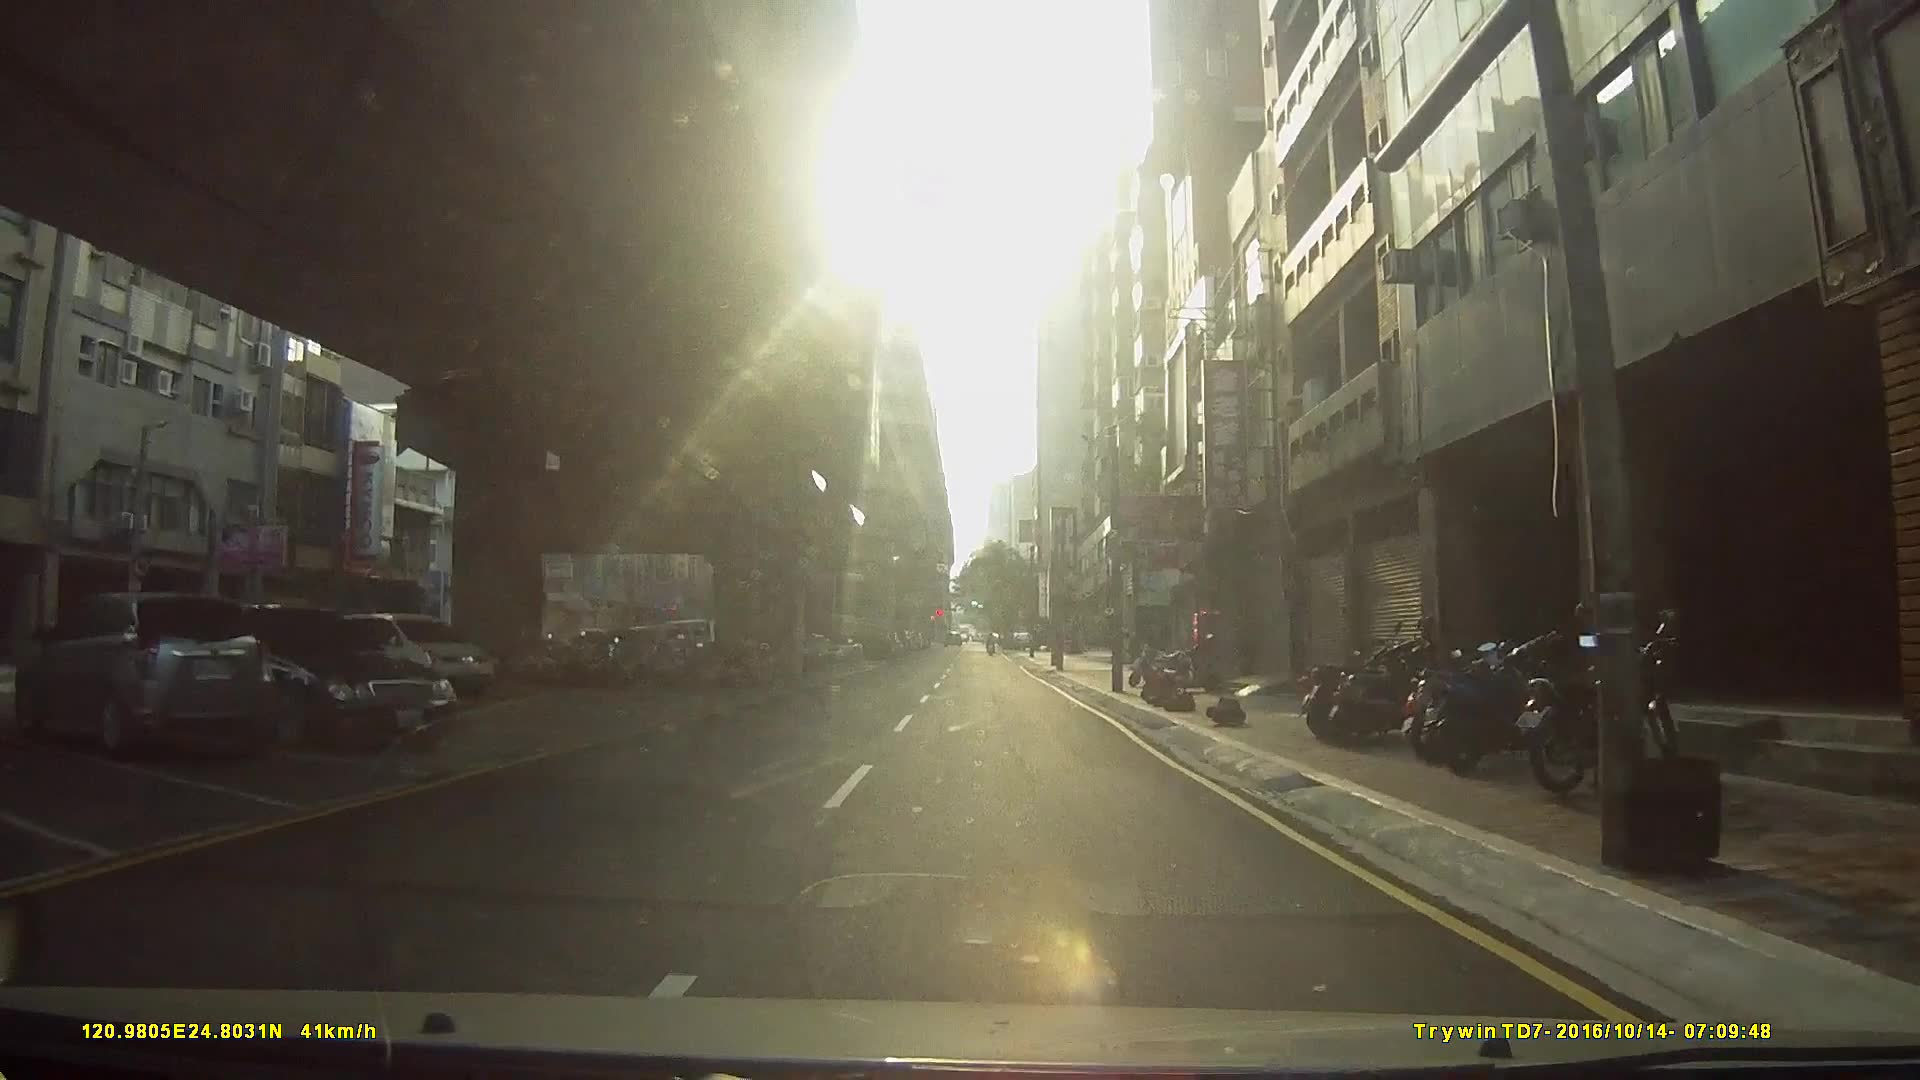vehicle: (11, 589, 280, 760), (162, 599, 451, 748), (330, 607, 491, 694)
